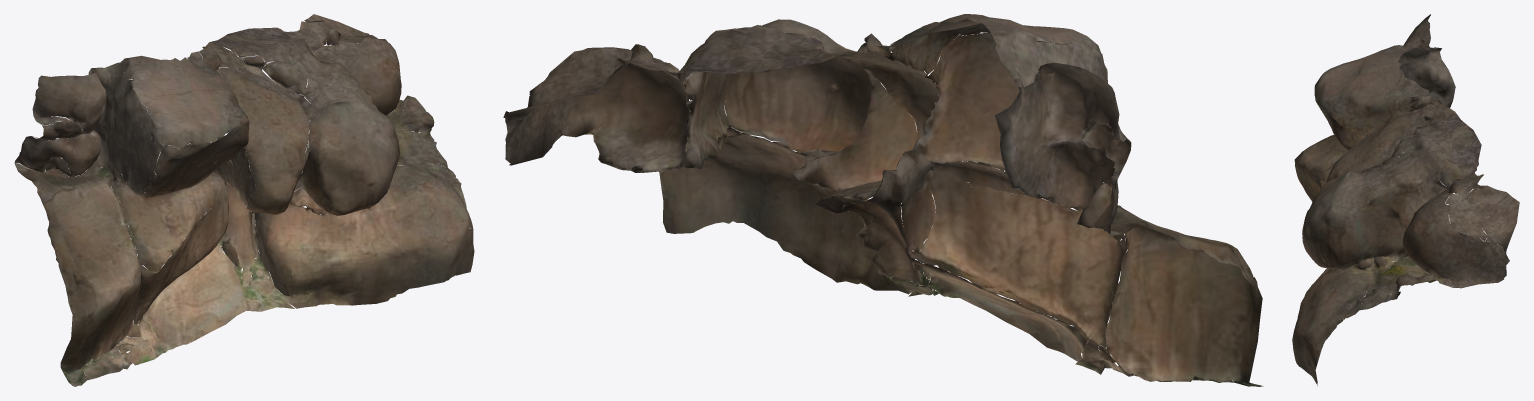
Rendered from namaqualand_cliff_01.glb.
The picture shows the model from 3 angles, left to right: view 1: azimuth 30°, elevation 25°; view 2: azimuth 150°, elevation 25°; view 3: azimuth 270°, elevation 25°; orthographic projection. The views are drawn at different scales.
Parts seen in each view (by area): view 1: drone_rock_01; view 2: drone_rock_01; view 3: drone_rock_01.
Part boxes in pixels (x1,y1,x2,y2): drone_rock_01: [14, 14, 474, 386]; drone_rock_01: [503, 14, 1263, 386]; drone_rock_01: [1292, 14, 1519, 385].
Bounding box in the file's own units: 8.28 × 4.96 × 4.39.
1 material, 1 textured.
